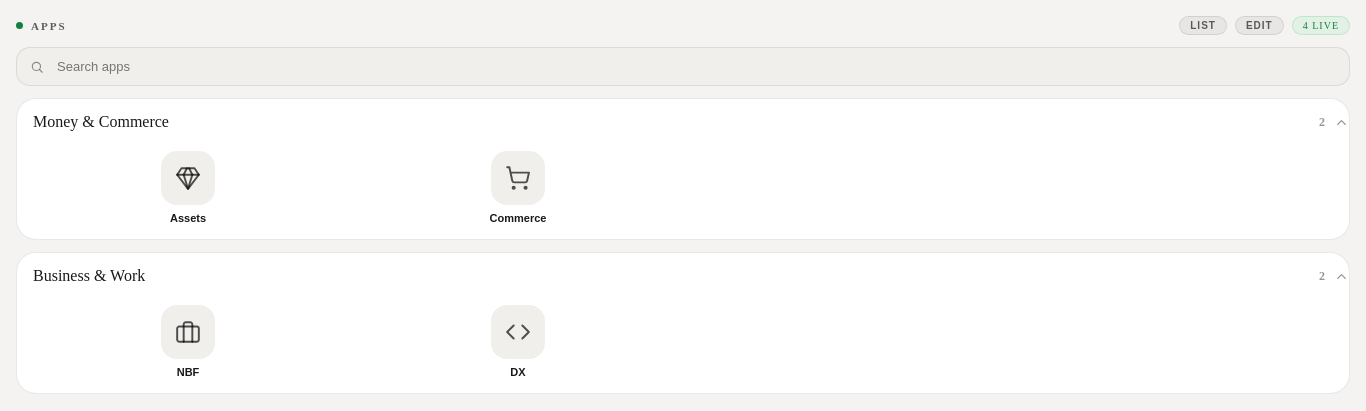
a group opens and closes › closes on click and hides only its own apps
Step 1. Click the button "Money & Commerce 2" → (101, 122), box [33,113,1349,131]
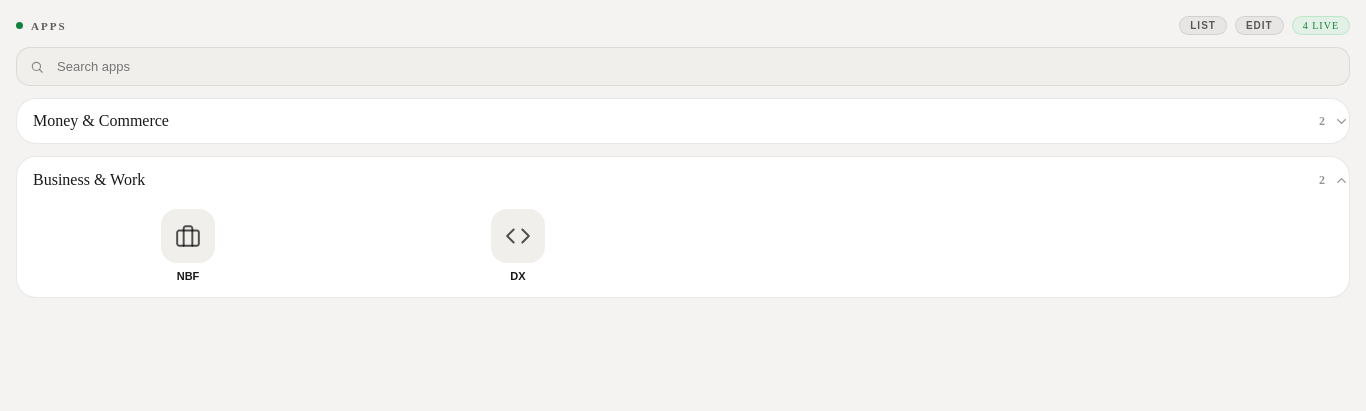
Expected: the text "NBF" is shown, [177,270,199,283]
Expected: the button "Assets" is gone
